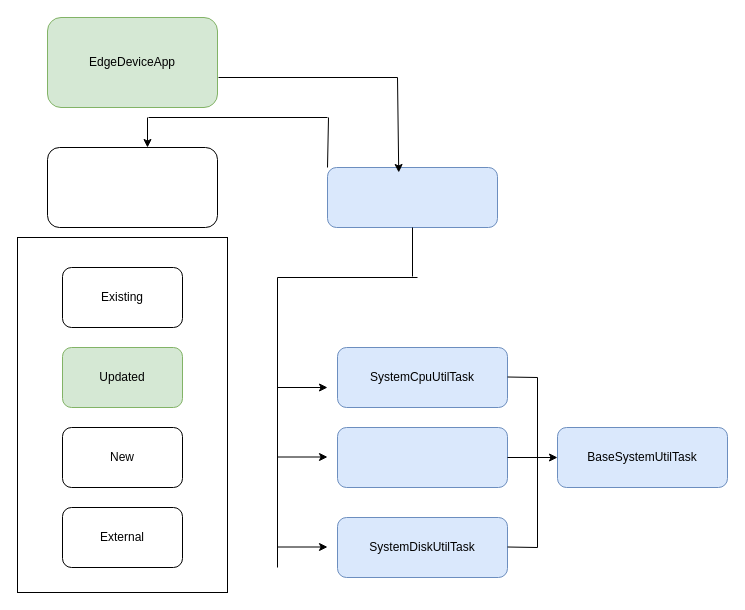
Image size: 745x610. Some labels were removed from this diagram. The shapes that lost their labels are listed below. From the top down, each one's centre as x and y in pixels, then its label:
At (132,187): "ConfigUtil".
At (412,197): "SysPerformanceManager".
At (422,457): "SystemMemUtilTask".
